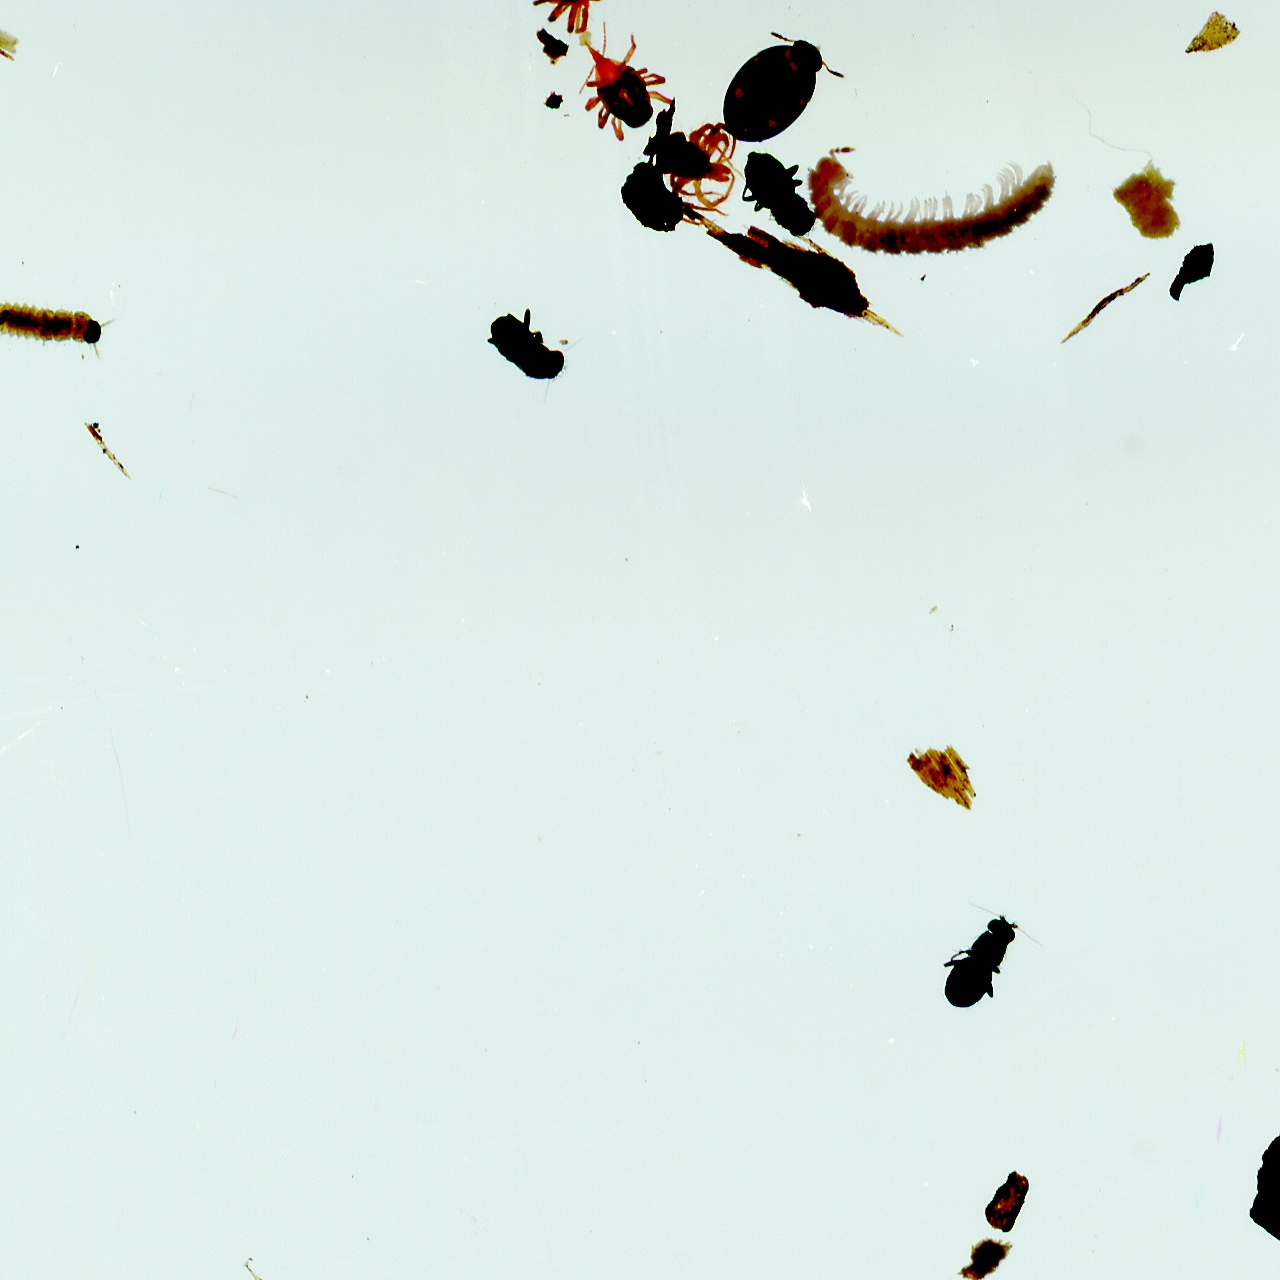arthropod: (802, 143, 1058, 260), (909, 886, 1056, 1041), (0, 262, 134, 391), (720, 30, 847, 145), (576, 19, 675, 144), (483, 305, 589, 408), (662, 119, 750, 218), (738, 147, 820, 241), (530, 0, 605, 36)
